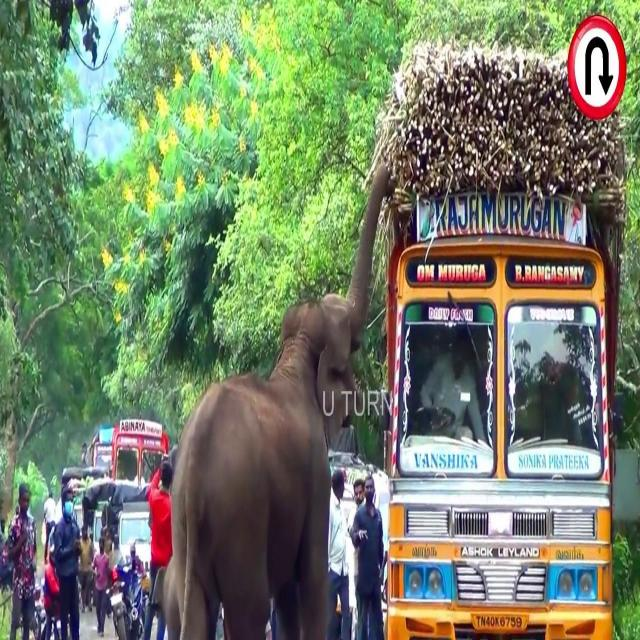Elephant: (166, 160, 394, 636)
